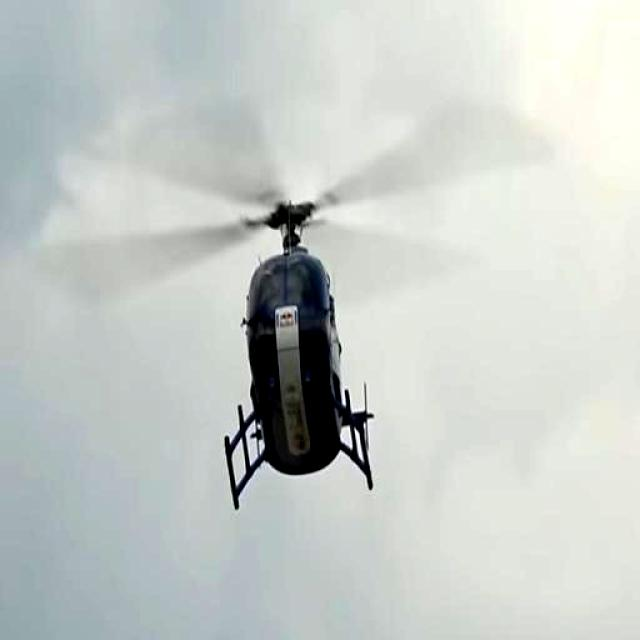drone: (140, 81, 410, 511)
